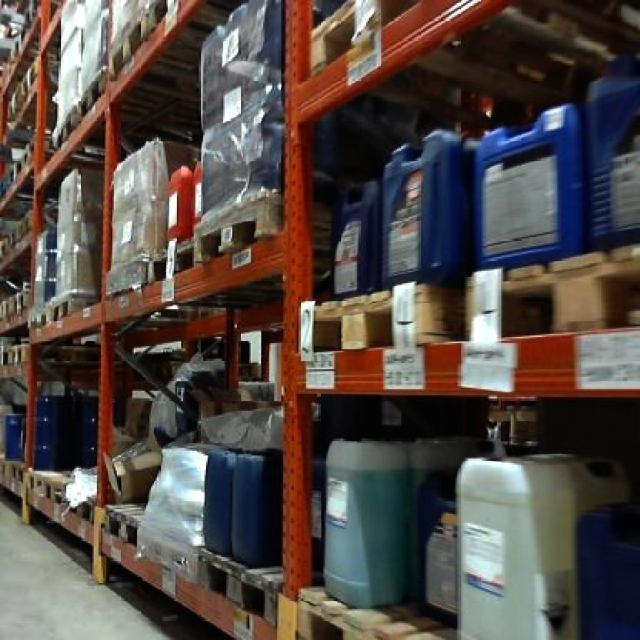pallets: (0, 0, 637, 637), (455, 452, 626, 637), (503, 248, 637, 395), (472, 102, 583, 266), (323, 437, 406, 605), (380, 128, 468, 285), (28, 163, 103, 325), (585, 54, 637, 246), (334, 340, 497, 394), (312, 108, 340, 178)
